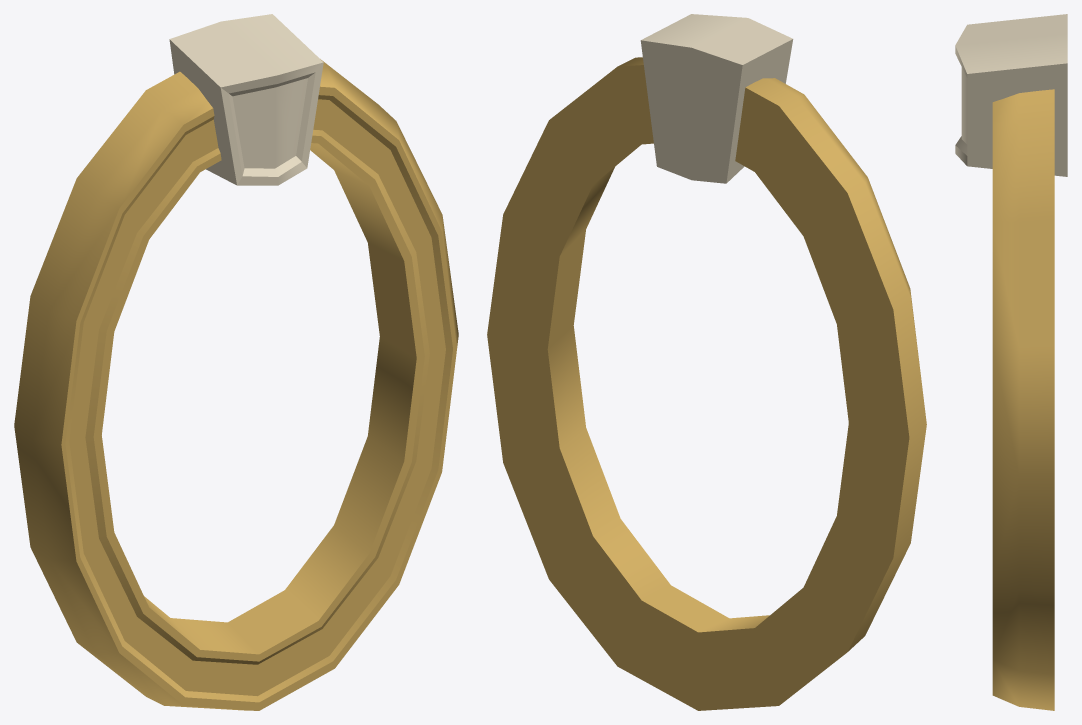
Rendered from MiscFrame2UV.fbx.
3 renders of one model, left to right at view 1: azimuth 30°, elevation 25°; view 2: azimuth 150°, elevation 25°; view 3: azimuth 270°, elevation 25°, orthographic.
Parts seen in each view (by area): view 1: CircularPictureFrame1; view 2: CircularPictureFrame1; view 3: CircularPictureFrame1.
Boxes of the visible parts, x1=… form: CircularPictureFrame1: x1=14, y1=14, x2=458, y2=710; CircularPictureFrame1: x1=487, y1=14, x2=926, y2=710; CircularPictureFrame1: x1=955, y1=14, x2=1067, y2=710.
Bounding box in the file's own units: 153 × 231 × 35.43.
